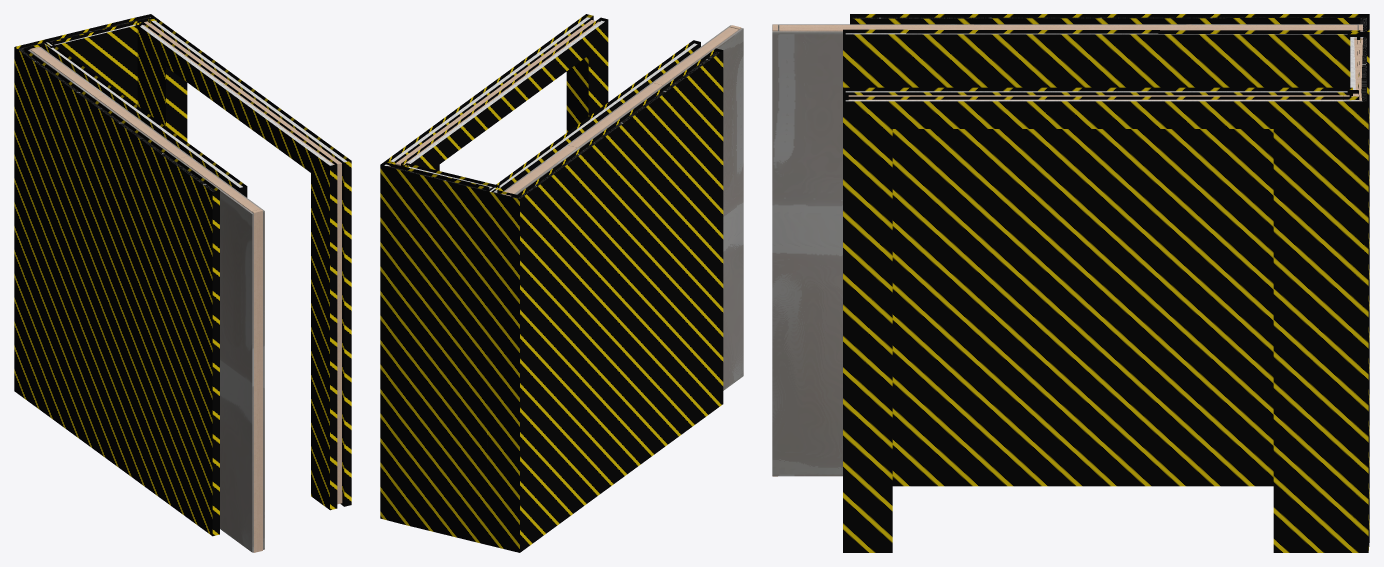
Rendered from WALLSET_A.FBX.
The picture shows the model from 3 angles, left to right: view 1: azimuth 30°, elevation 25°; view 2: azimuth 150°, elevation 25°; view 3: azimuth 270°, elevation 25°; orthographic projection. The views are drawn at different scales.
Parts seen in each view (by area): view 1: SELECTOR_00, WALL_SET_A_07, WALL_SET_A_04, WALL_SET_18; view 2: SELECTOR_00, WALL_SET_A_07, WALL_SET_A_04, WALL_SET_18; view 3: SELECTOR_00, WALL_SET_A_07, WALL_SET_A_04, WALL_SET_18.
Part boxes in pixels (x1=…): SELECTOR_00: x1=14, y1=14, x2=351, y2=536; WALL_SET_A_07: x1=28, y1=47, x2=264, y2=552; WALL_SET_A_04: x1=30, y1=21, x2=342, y2=552; WALL_SET_18: x1=18, y1=17, x2=347, y2=191; SELECTOR_00: x1=380, y1=14, x2=723, y2=552; WALL_SET_A_07: x1=503, y1=25, x2=743, y2=390; WALL_SET_A_04: x1=389, y1=20, x2=741, y2=196; WALL_SET_18: x1=384, y1=17, x2=719, y2=198; SELECTOR_00: x1=843, y1=14, x2=1369, y2=552; WALL_SET_A_07: x1=772, y1=24, x2=1362, y2=476; WALL_SET_A_04: x1=772, y1=24, x2=1362, y2=476; WALL_SET_18: x1=845, y1=17, x2=1366, y2=101.
Bounding box in the file's own units: 37.37 × 90.28 × 108.
